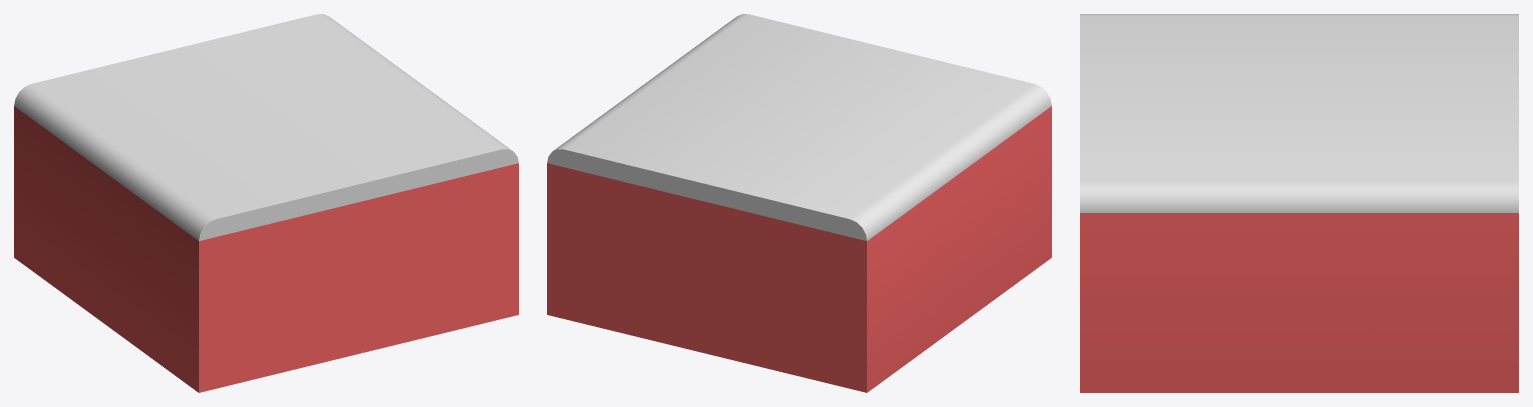
Rendered from CubeForTile_05.2.fbx.
The picture shows the model from 3 angles, left to right: view 1: azimuth 30°, elevation 25°; view 2: azimuth 150°, elevation 25°; view 3: azimuth 270°, elevation 25°; orthographic projection. The views are drawn at different scales.
Parts seen in each view (by area): view 1: CubeForTile_05.2; view 2: CubeForTile_05.2; view 3: CubeForTile_05.2.
Boxes of the visible parts, left/top/right/bottom form: CubeForTile_05.2: left=14, top=14, right=518, bottom=392; CubeForTile_05.2: left=547, top=14, right=1051, bottom=392; CubeForTile_05.2: left=1080, top=14, right=1518, bottom=392.
Bounding box in the file's own units: 200 × 101 × 200.
